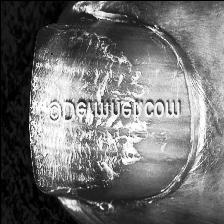Toxin: (28, 24, 149, 198)
